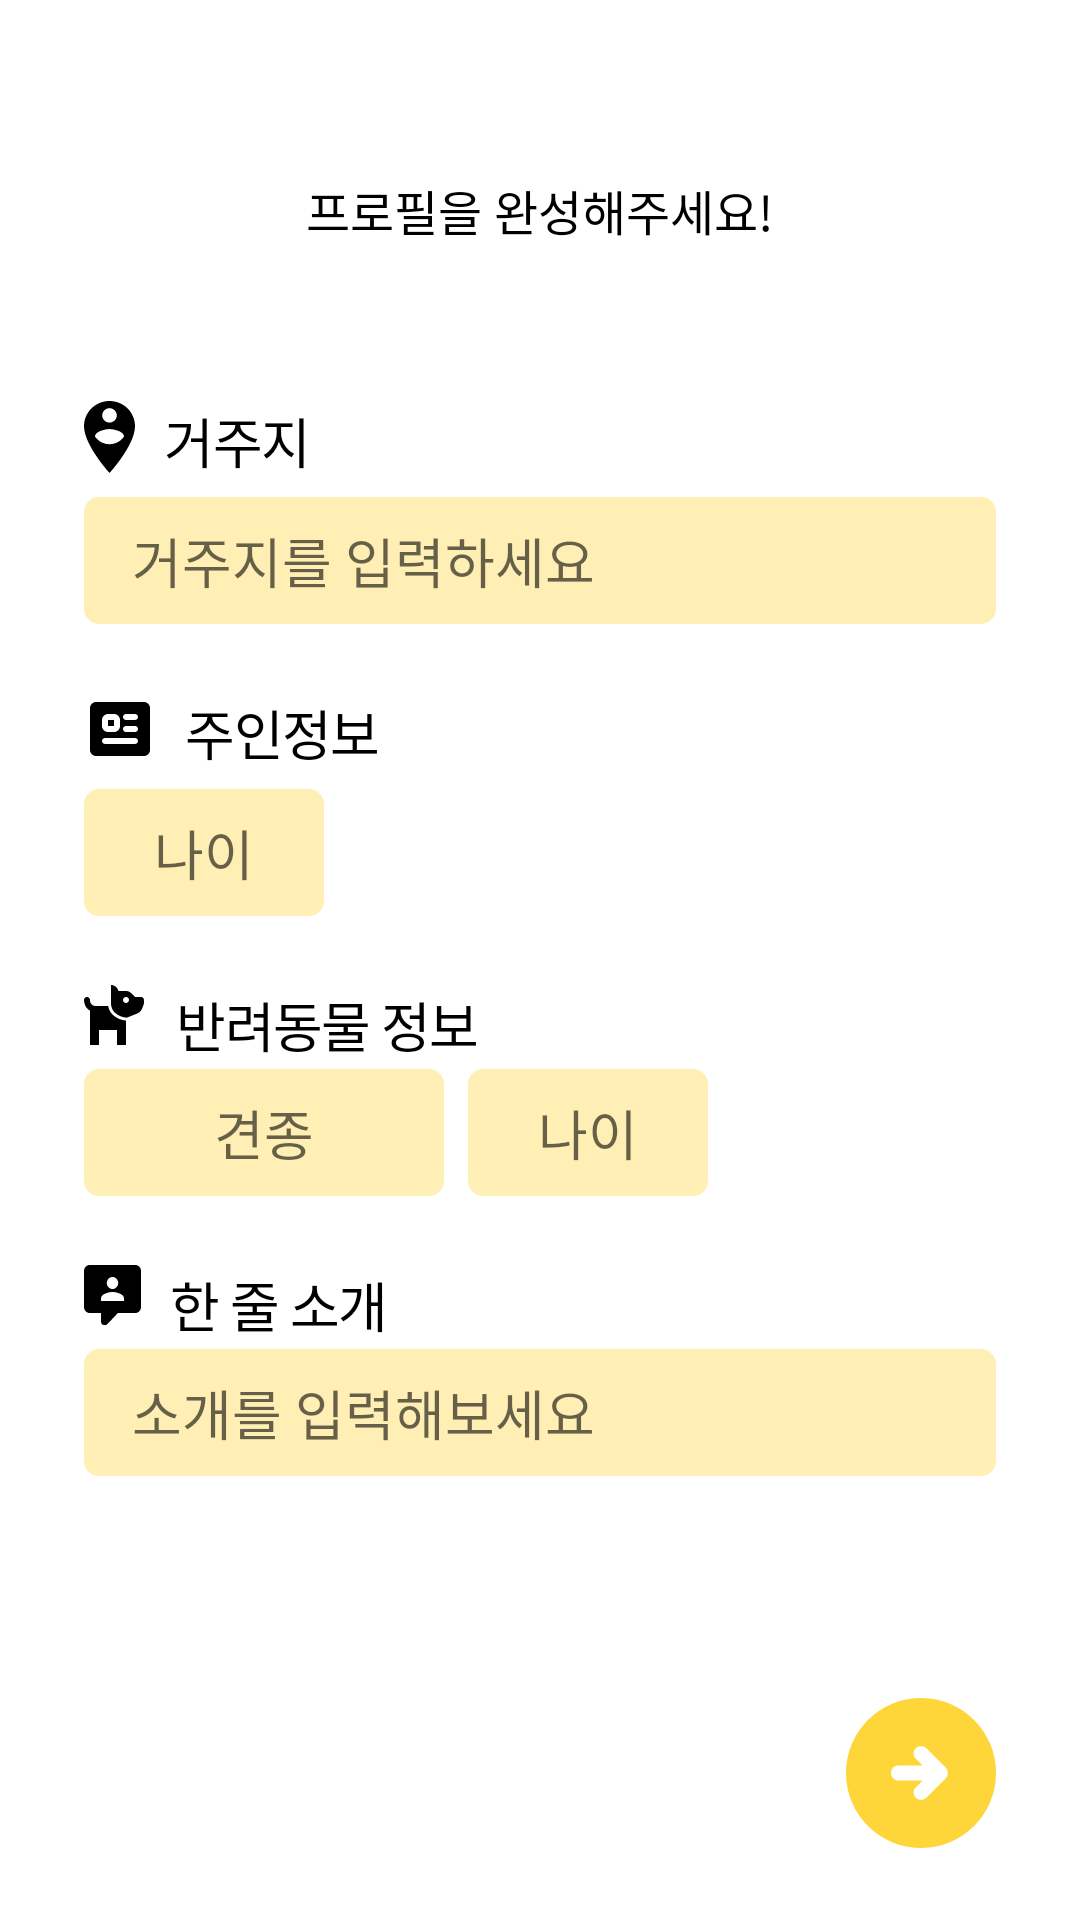

Screen size 1080px×1920px. Icon name, then its box in pixels as box(x1, y1, x2, y2):
next: box(846, 1698, 996, 1848)
setup address: box(84, 401, 135, 473)
setup dog: box(84, 985, 144, 1045)
setup info: box(90, 702, 150, 756)
setup intro: box(84, 1265, 141, 1325)
